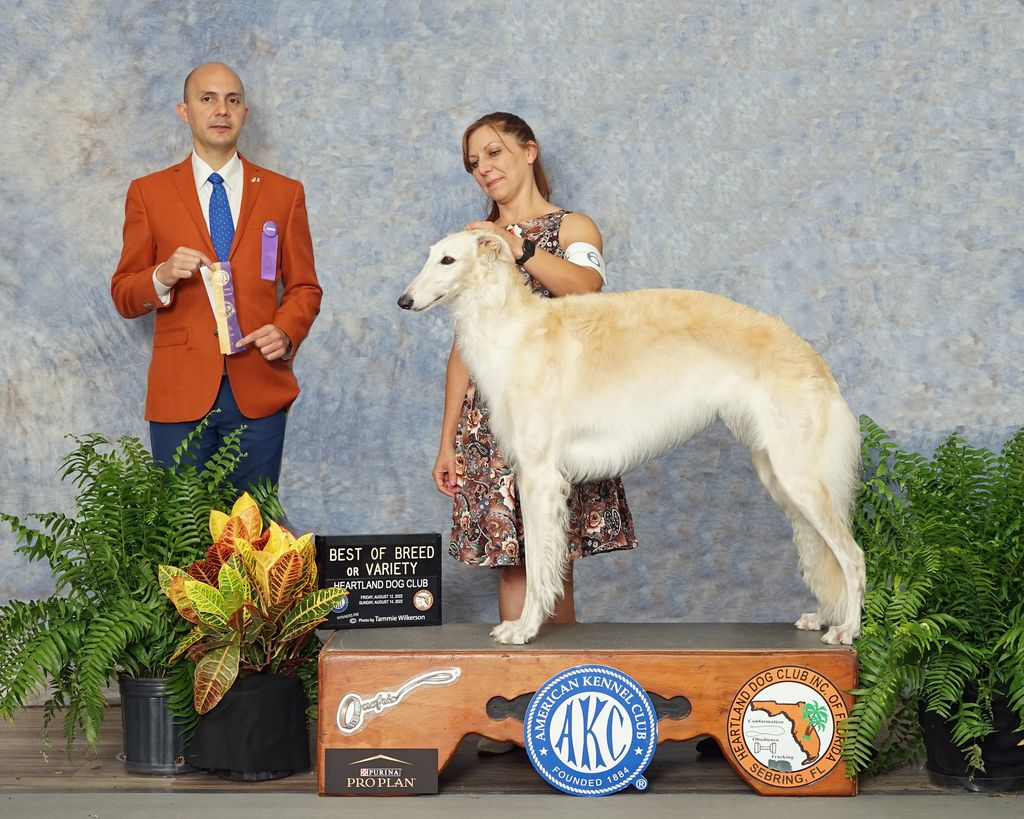borzoi: (393, 214, 865, 644)
